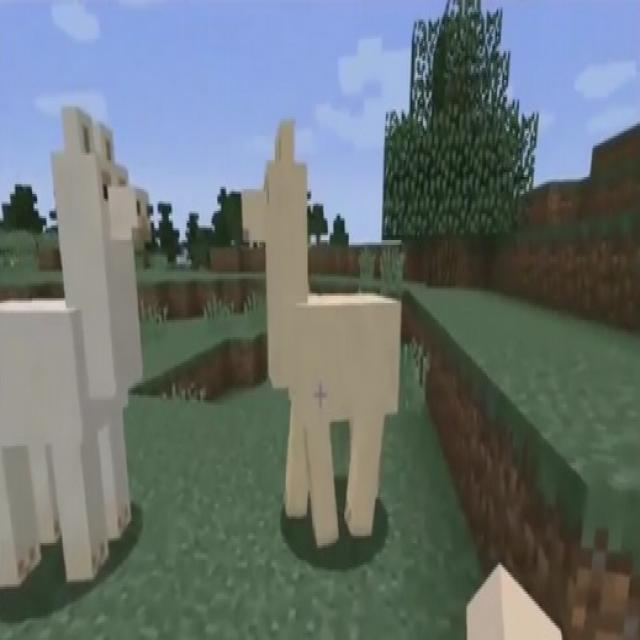Llama: (0, 98, 149, 602), (242, 119, 403, 560)
